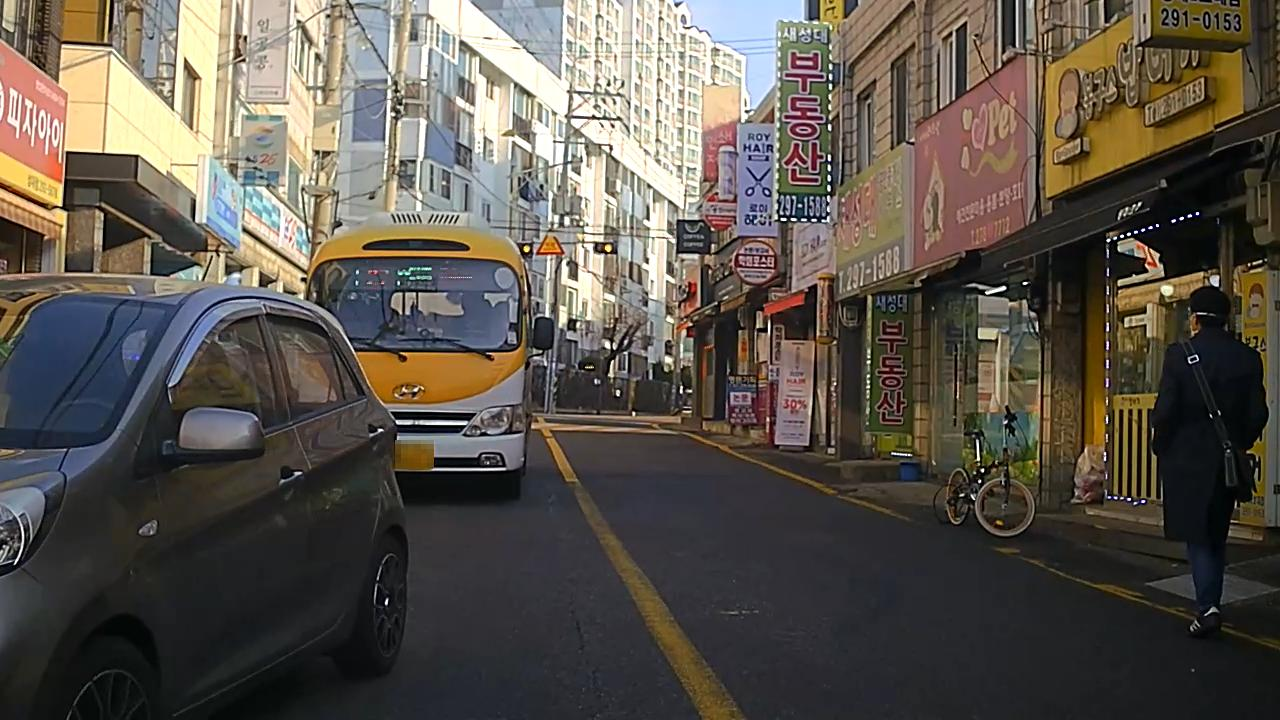vcrack: (564, 592, 603, 720)
